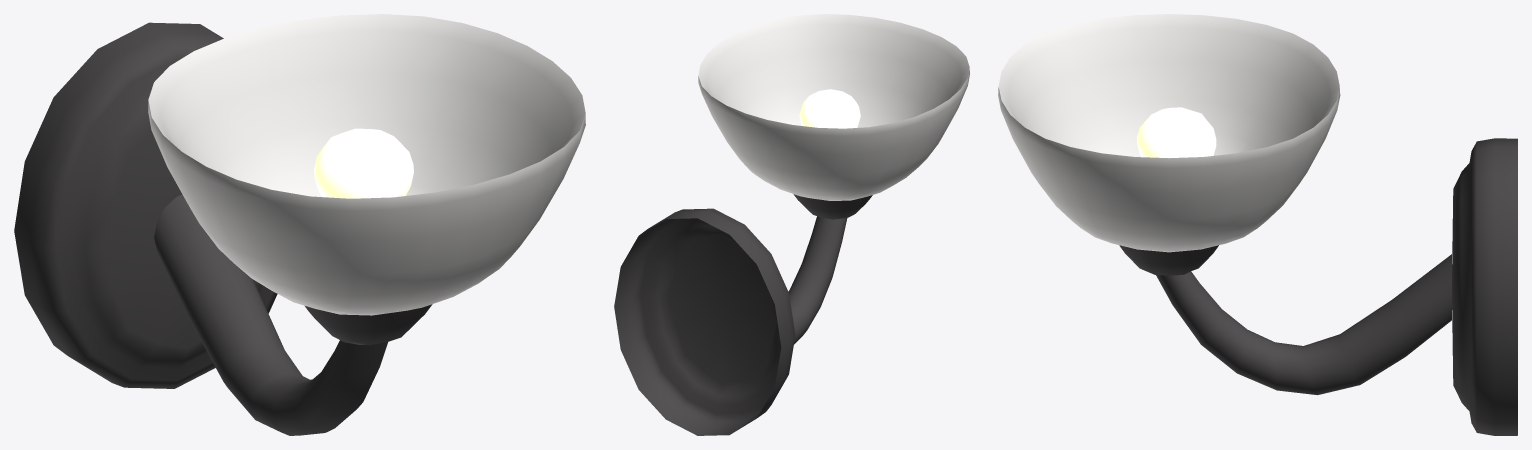
File: Lamp_5.glb
The picture shows the model from 3 angles, left to right: view 1: azimuth 30°, elevation 25°; view 2: azimuth 150°, elevation 25°; view 3: azimuth 270°, elevation 25°; orthographic projection. The views are drawn at different scales.
Visible parts, largest first — view 1: Lamp_5; view 2: Lamp_5; view 3: Lamp_5.
Part boxes in pixels (<box>): Lamp_5: <box>14,14,585,435</box>; Lamp_5: <box>614,14,969,435</box>; Lamp_5: <box>998,14,1517,435</box>.
Size of the model in its own units: 0.2907 by 0.3193 by 0.4415.
Materials: 2 (1 with a texture image).
